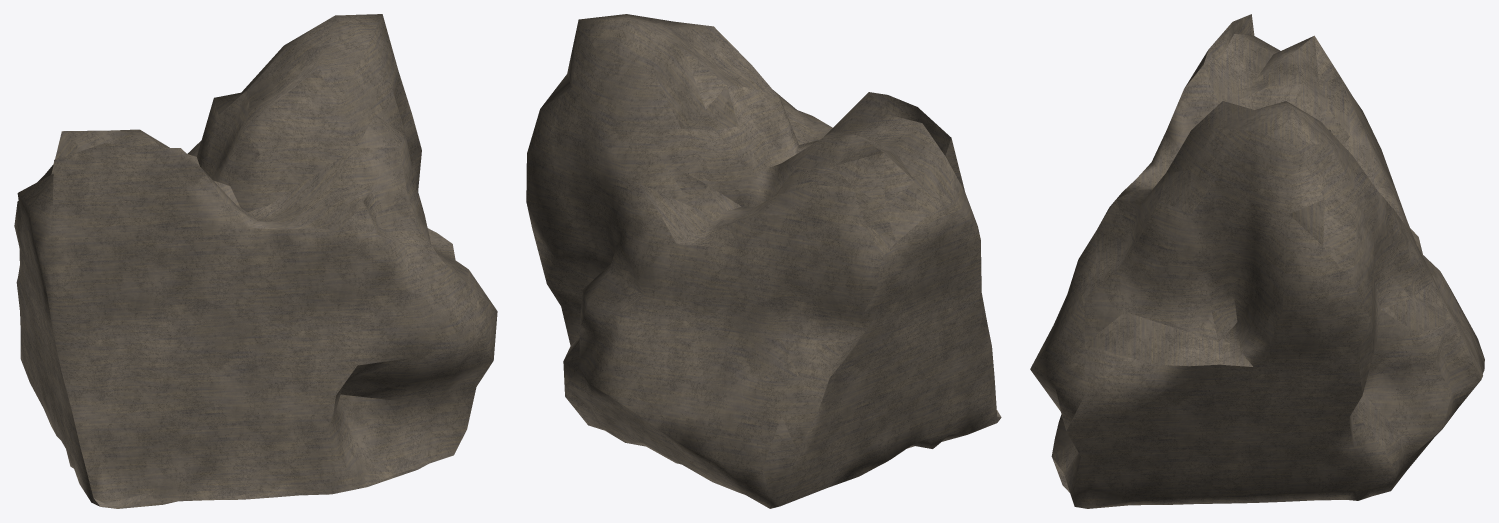
The model's file is SM_Rocas_PuertaNorte_01.fbx.
The picture shows the model from 3 angles, left to right: view 1: azimuth 30°, elevation 25°; view 2: azimuth 150°, elevation 25°; view 3: azimuth 270°, elevation 25°; orthographic projection. The views are drawn at different scales.
Visible parts, largest first — view 1: SM_Rocas_PuertaNorte_01; view 2: SM_Rocas_PuertaNorte_01; view 3: SM_Rocas_PuertaNorte_01.
Boxes of the visible parts, x1,y1,x2,y2 form: SM_Rocas_PuertaNorte_01: (14, 14, 497, 508); SM_Rocas_PuertaNorte_01: (526, 14, 1001, 508); SM_Rocas_PuertaNorte_01: (1030, 14, 1484, 508).
Size of what is drawn, in the model's own units: 5.54 by 5.08 by 4.81.
